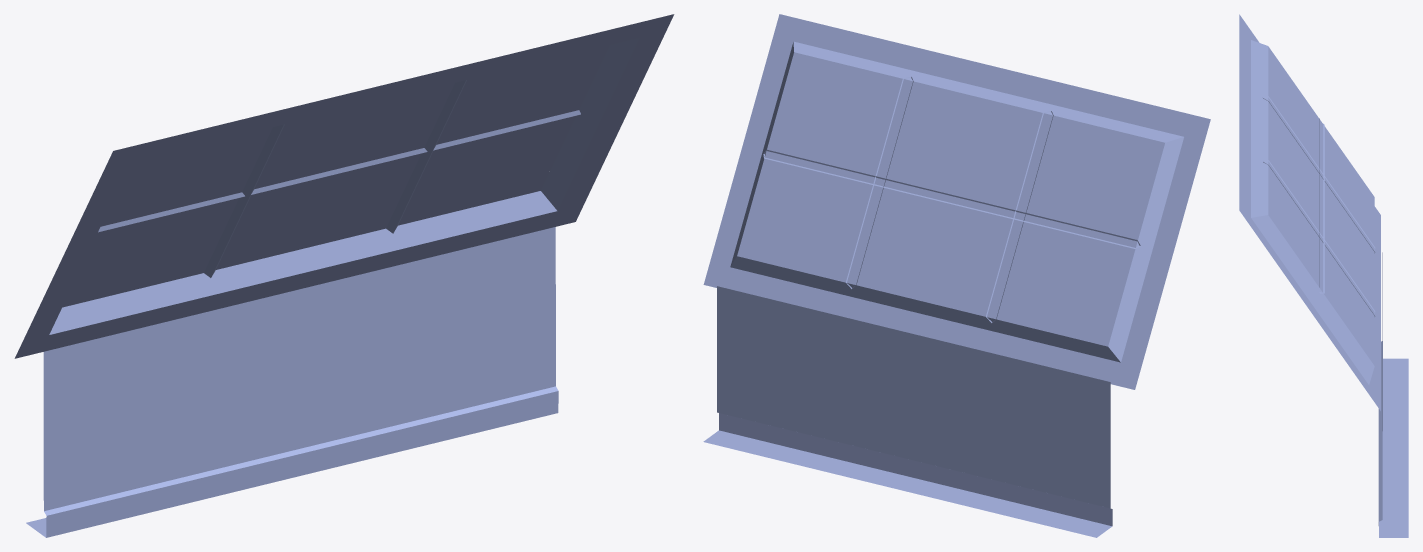
The model's file is Museum_Win_02.fbx.
3 views of the same model, side by side, from view 1: azimuth 30°, elevation 25°; view 2: azimuth 150°, elevation 25°; view 3: azimuth 270°, elevation 25° (orthographic). The views are drawn at different scales.
Parts seen in each view (by area): view 1: Archi_Win_02; view 2: Archi_Win_02; view 3: Archi_Win_02.
Part boxes in pixels (bbox=[...]): Archi_Win_02: bbox=[14, 14, 674, 537]; Archi_Win_02: bbox=[703, 14, 1210, 537]; Archi_Win_02: bbox=[1239, 14, 1408, 537].
Size of the model in its own units: 591 by 468 by 215.
